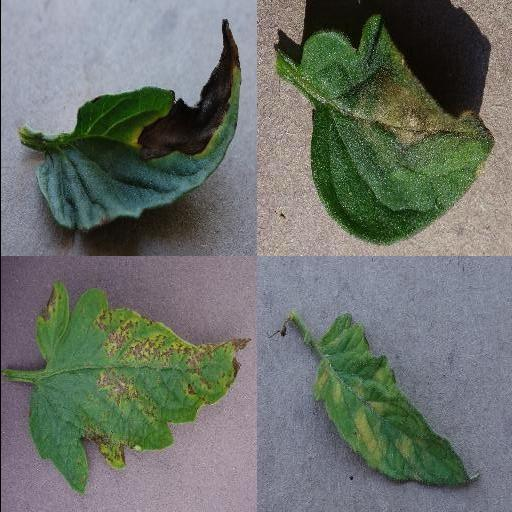Early Blight: (34, 18, 242, 235)
Late Blight: (298, 13, 500, 245)
Leaf Mold: (312, 315, 474, 486)
Septoria: (28, 282, 252, 497)
